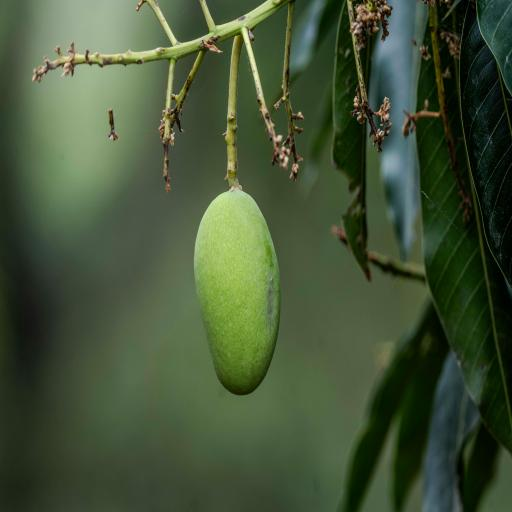Mango-Detection: (134, 105, 340, 446)
